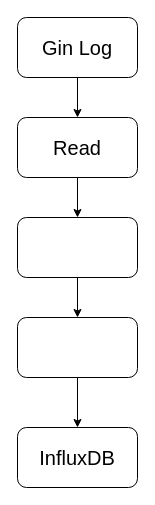
This 155x505 diagram has some shape labels left out. Here are the shapes that lost their labels. From the top down, the box of each, then its label:
(16, 216, 138, 278): Process
(16, 316, 138, 378): Write
